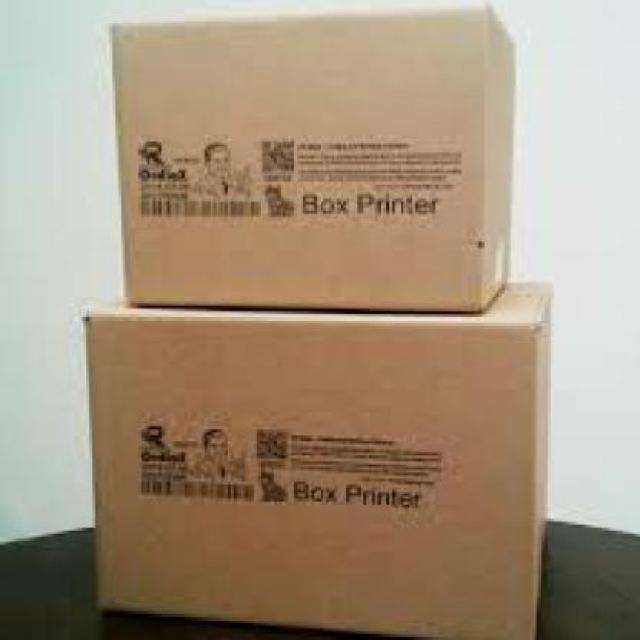-: (90, 304, 543, 640), (113, 9, 514, 312)
